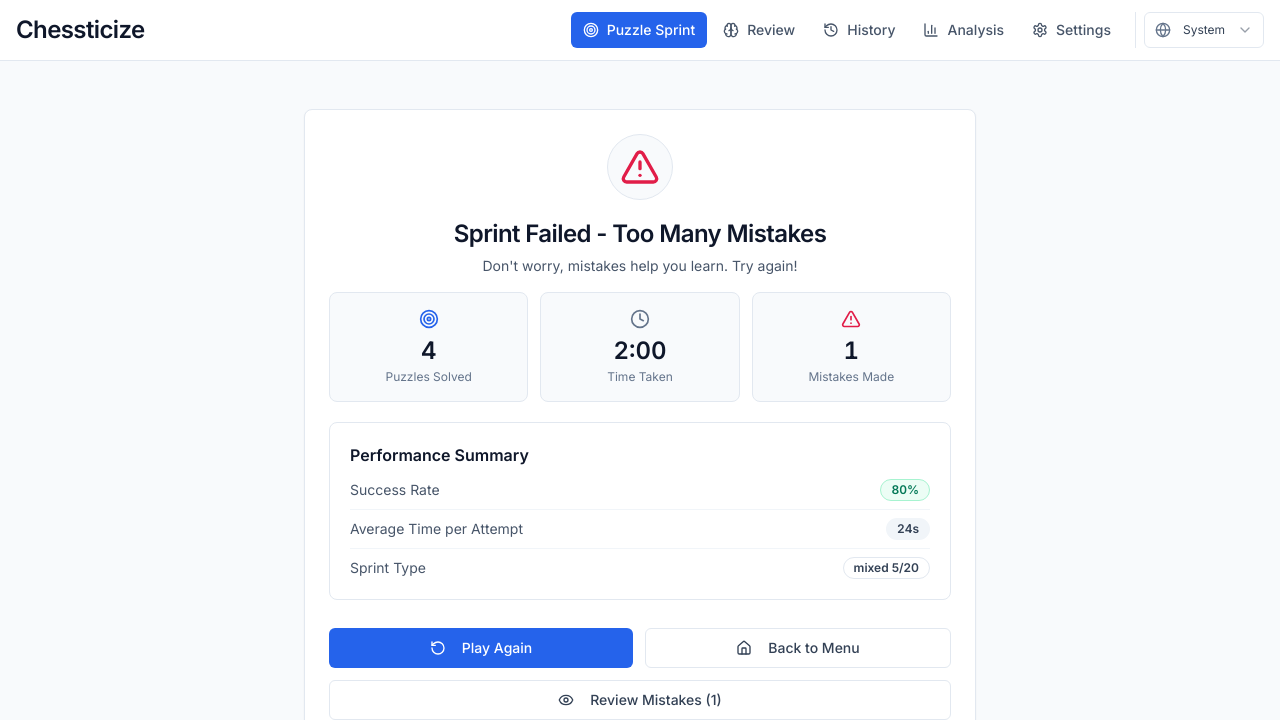
Test: SprintResults › opens mistake review and reads failed sprint attempts from v2-backed hook
Click the button "Review Mistakes (1)": {"x": 640, "y": 700} [329,680,951,719]
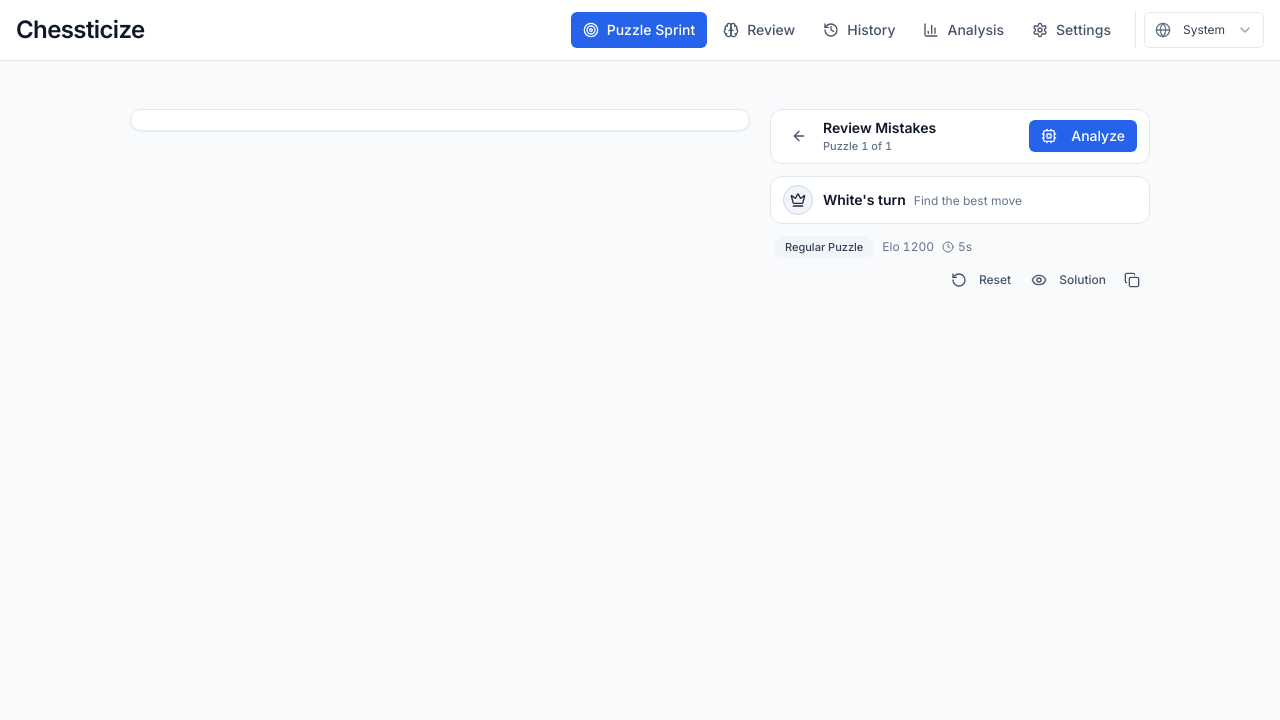
Check: the heading "Review Mistakes" is shown, box [823,118,936,138]
Check: the text "Puzzle 1 of 1" is shown, box [823,138,892,154]
